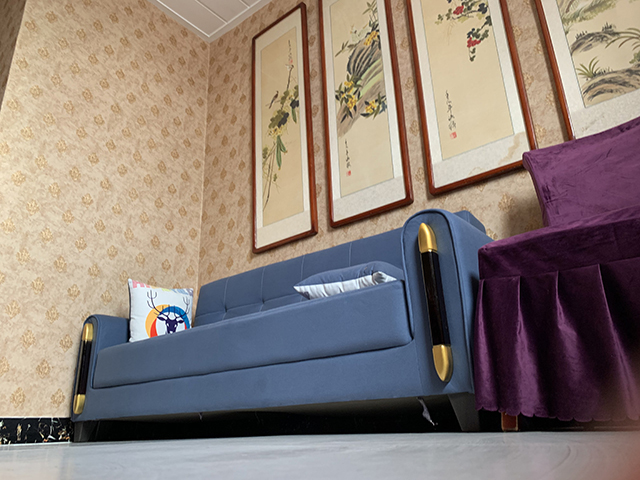sofa: (69, 208, 498, 447)
stool: (471, 114, 640, 434)
